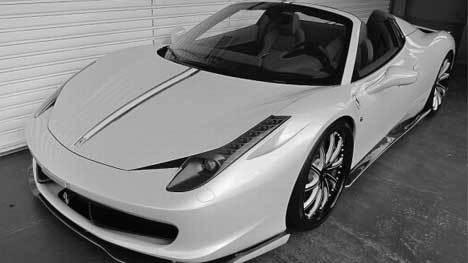car: (29, 2, 455, 263)
